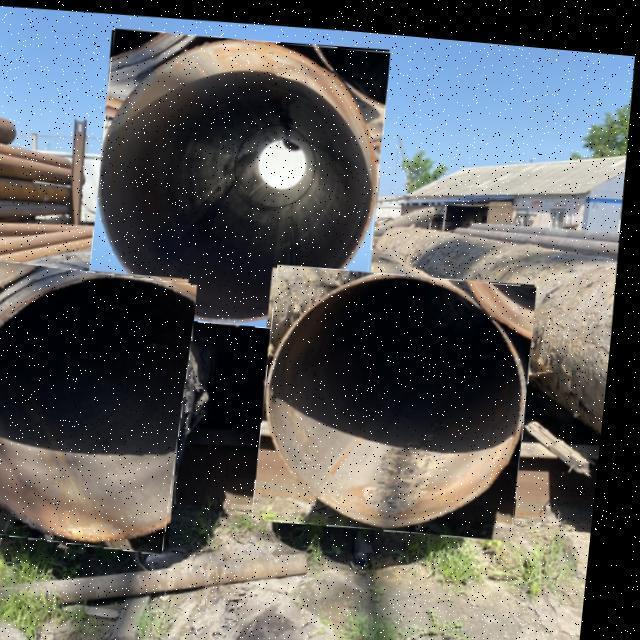pipe: (92, 26, 390, 327), (262, 259, 541, 530), (0, 260, 202, 550)
